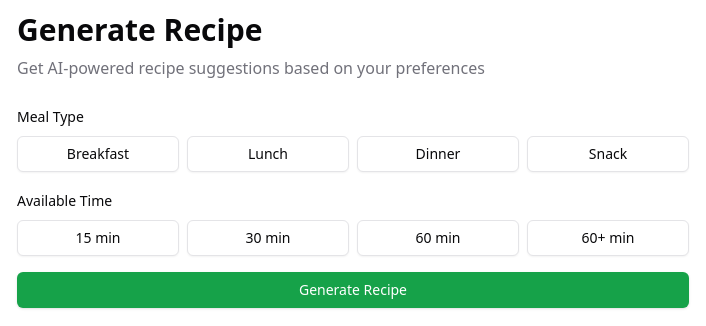
Test: RecipeGenerator › shows loading state during generation
Click the button "Lunch" at (268, 154), box [187,136,349,172]
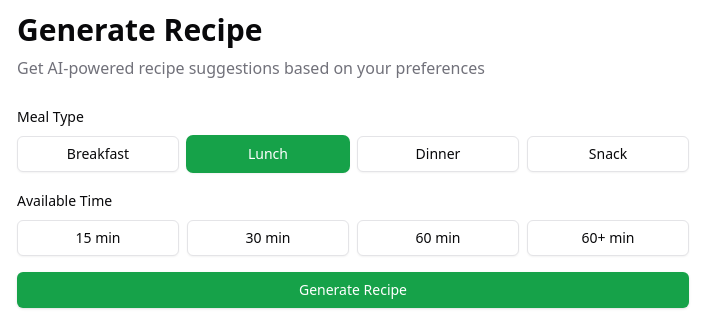
Click the button "15 min" at (98, 238), box [17,220,179,256]
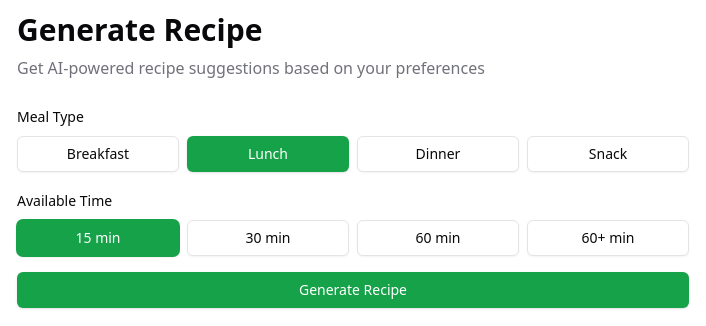
Click the button "Generate Recipe" at (353, 290), box [17,272,689,308]
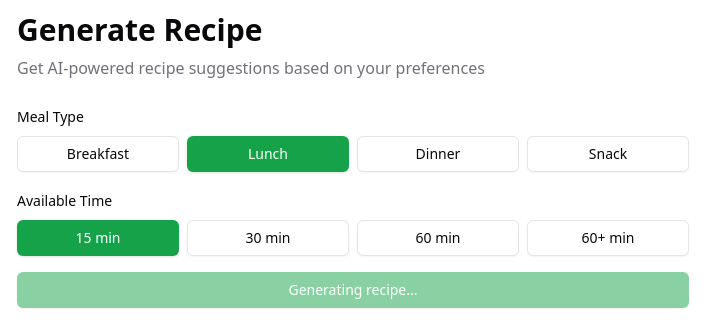
Check: the button "Generating recipe..." is shown, box [17,272,689,308]
